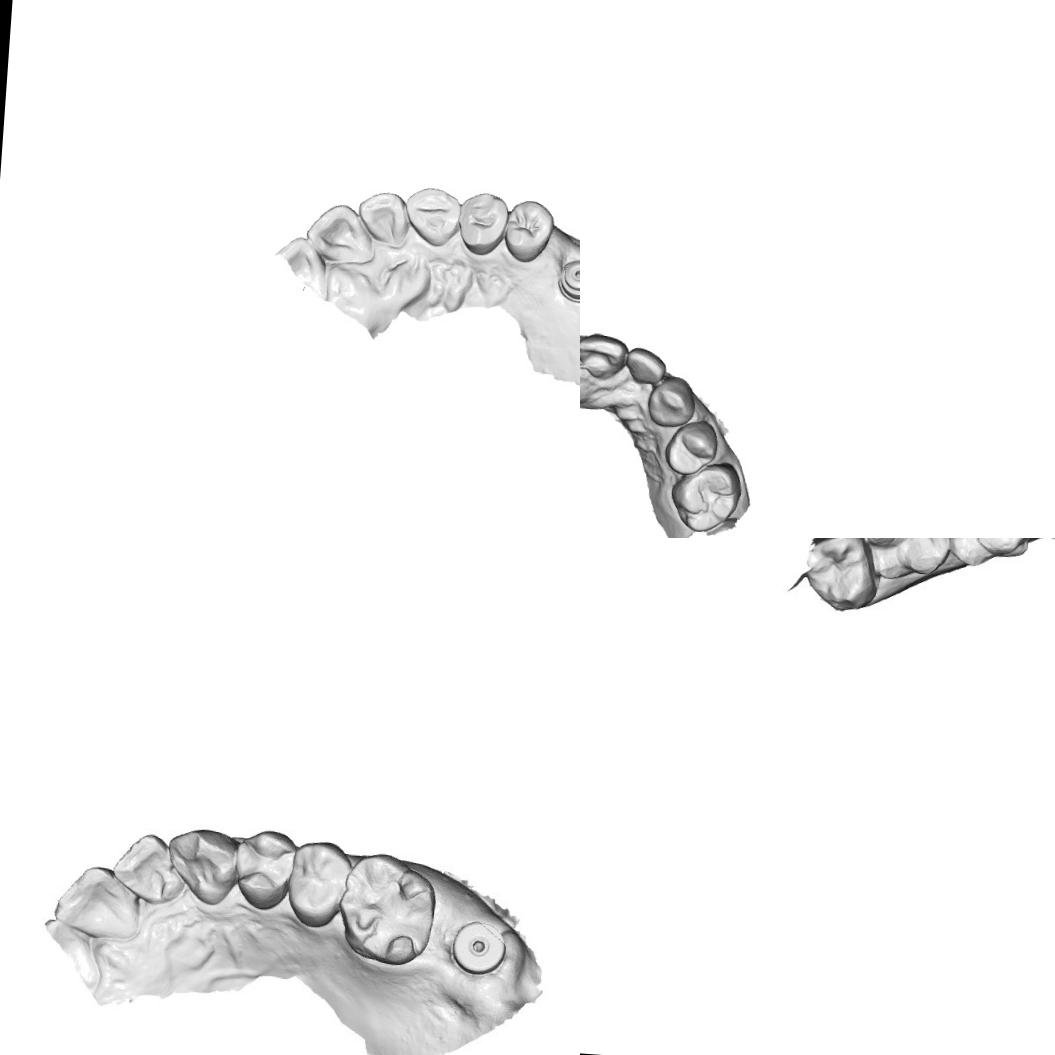canine: (164, 822, 247, 909), (402, 184, 463, 248), (644, 376, 698, 430)
implant: (443, 908, 516, 988), (554, 256, 580, 304)
incisor: (52, 861, 146, 938), (106, 829, 184, 904), (303, 201, 375, 266), (355, 188, 411, 248), (580, 329, 628, 381), (620, 344, 670, 387)
molar: (333, 850, 440, 968), (800, 538, 881, 612), (666, 458, 743, 535), (859, 538, 954, 582), (939, 538, 1032, 569)
premolar: (287, 838, 355, 932), (236, 826, 300, 909), (454, 189, 510, 258), (501, 196, 556, 264), (662, 416, 720, 479)
